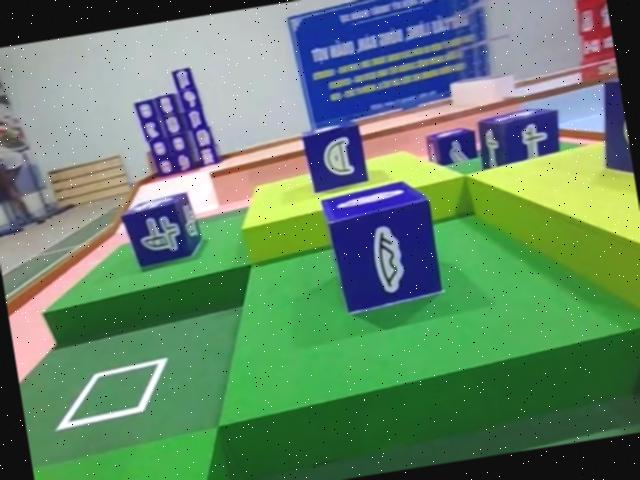R2 Real Blue: (316, 180, 445, 321), (119, 192, 206, 273), (470, 103, 563, 171), (592, 73, 637, 198), (298, 121, 371, 197), (421, 124, 478, 168)
